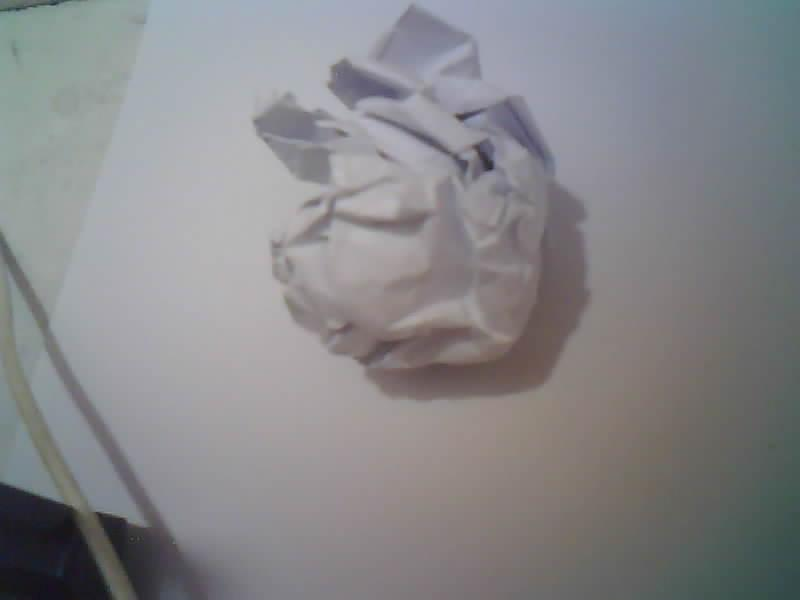biodegradable: (253, 6, 549, 369)
